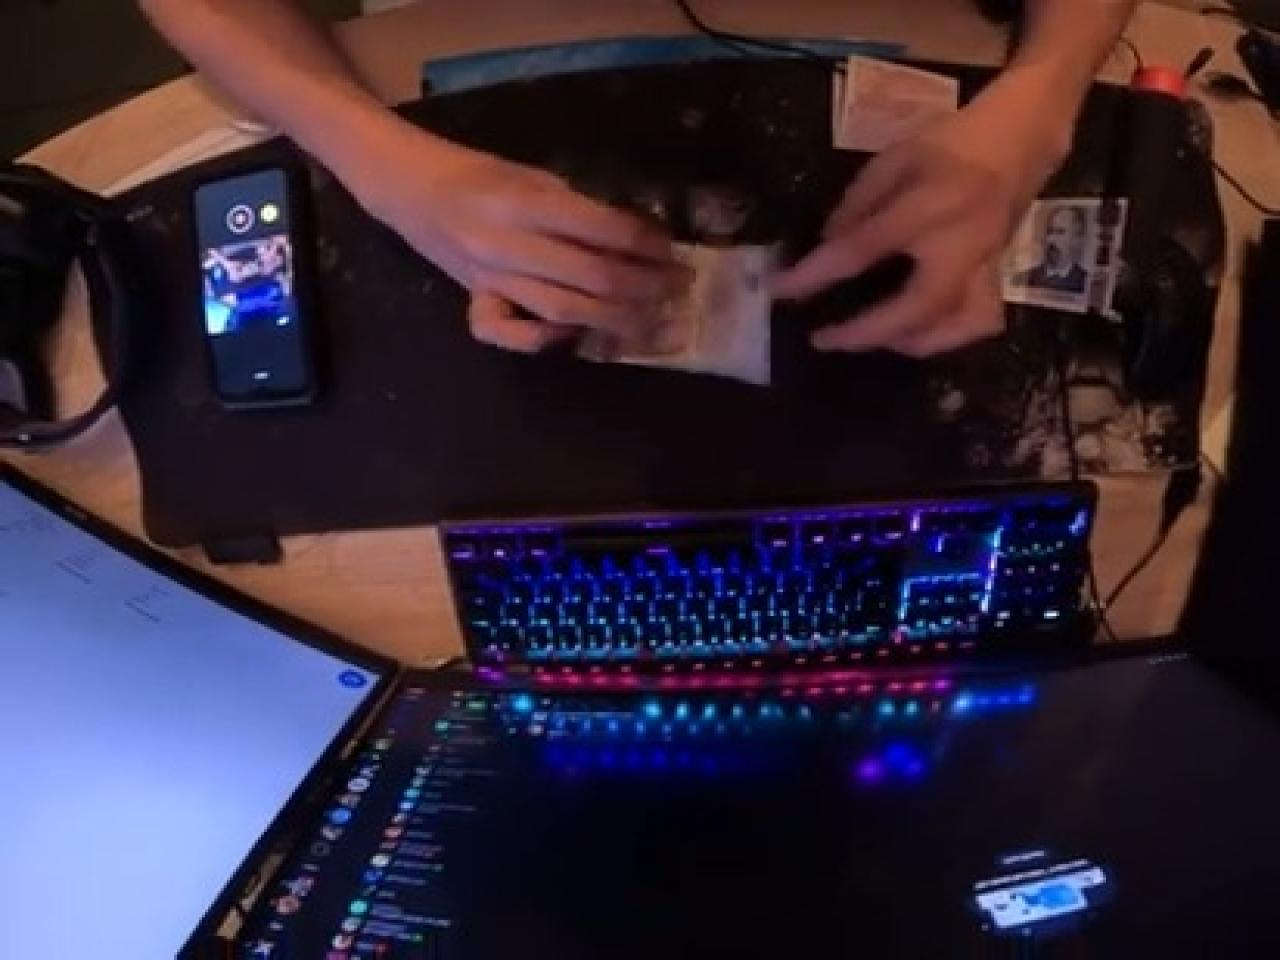50leva: (354, 109, 795, 386)
